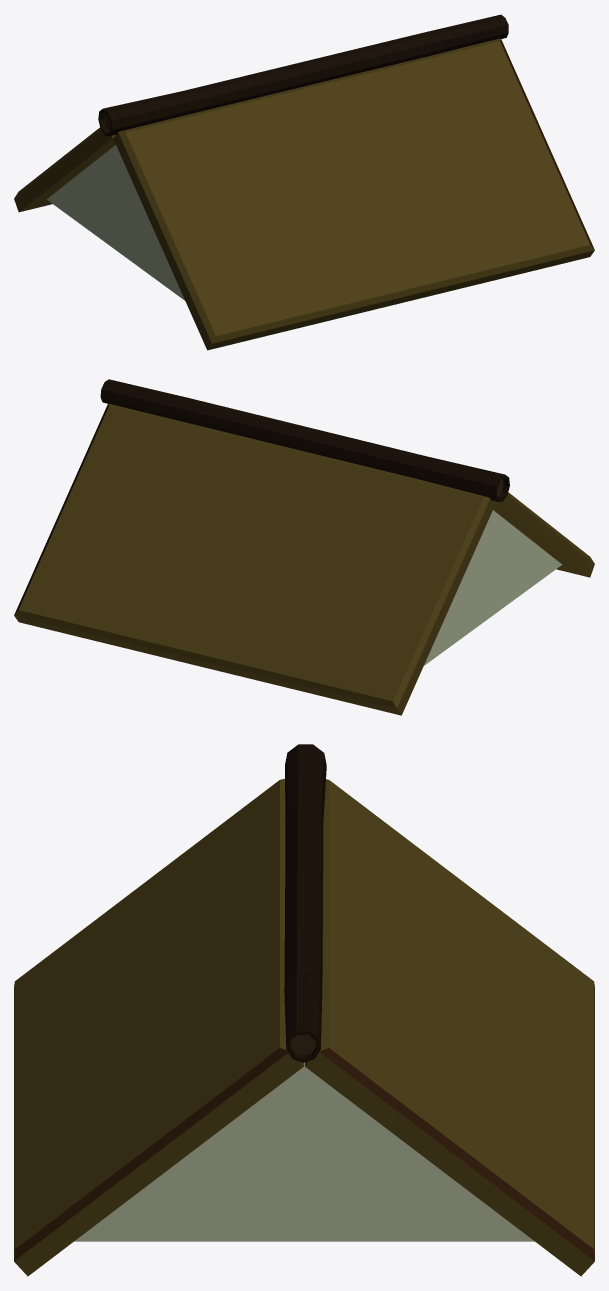
Rendered from House_FullRoof_FBX.fbx.
3 views of the same model, one above another, from view 1: azimuth 30°, elevation 25°; view 2: azimuth 150°, elevation 25°; view 3: azimuth 270°, elevation 25° (orthographic). The views are drawn at different scales.
Visible parts, largest first — view 1: Roof011, LOG 021, Box146, Roof012; view 2: Roof012, LOG 021, Box146, Roof011; view 3: Roof012, Roof011, Box146, LOG 021.
Part boxes in pixels (box(x1,y1,x2,y2)): Roof011: box(113, 38, 594, 350); LOG 021: box(98, 14, 508, 135); Box146: box(47, 145, 184, 300); Roof012: box(14, 127, 115, 212); Roof012: box(14, 403, 495, 715); LOG 021: box(100, 379, 509, 501); Box146: box(424, 510, 562, 665); Roof011: box(493, 492, 594, 577); Roof012: box(305, 779, 594, 1276); Roof011: box(14, 778, 303, 1276); Box146: box(74, 1062, 534, 1241); LOG 021: box(284, 744, 326, 1062).
Size of the model in its own units: 934 by 387 by 806.
